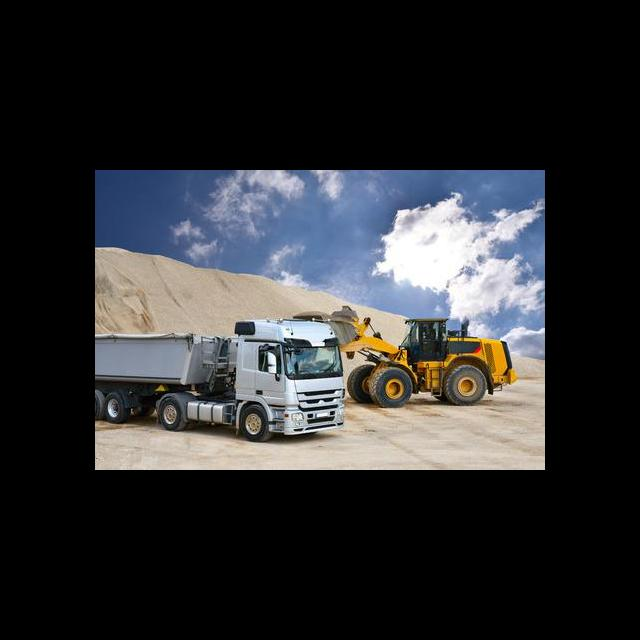dump truck: (95, 314, 343, 442), (294, 303, 517, 410)
